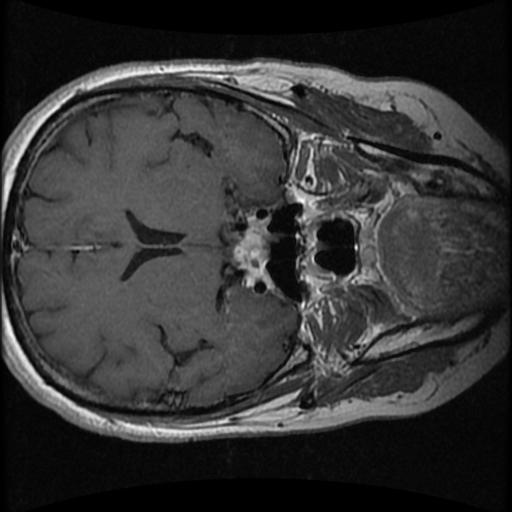pituitary tumour: (233, 217, 270, 286)
